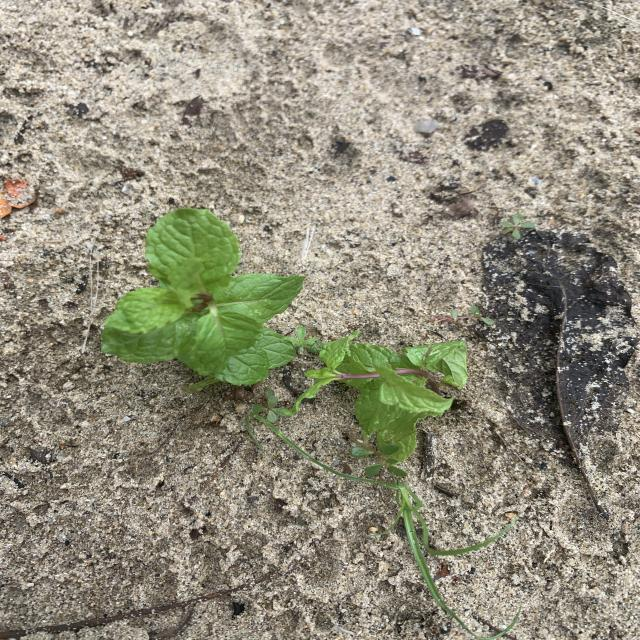crop: (102, 208, 304, 392), (281, 333, 468, 466)
weed: (253, 408, 520, 640), (343, 433, 406, 477), (446, 305, 495, 334), (252, 389, 289, 424), (501, 213, 535, 240)
